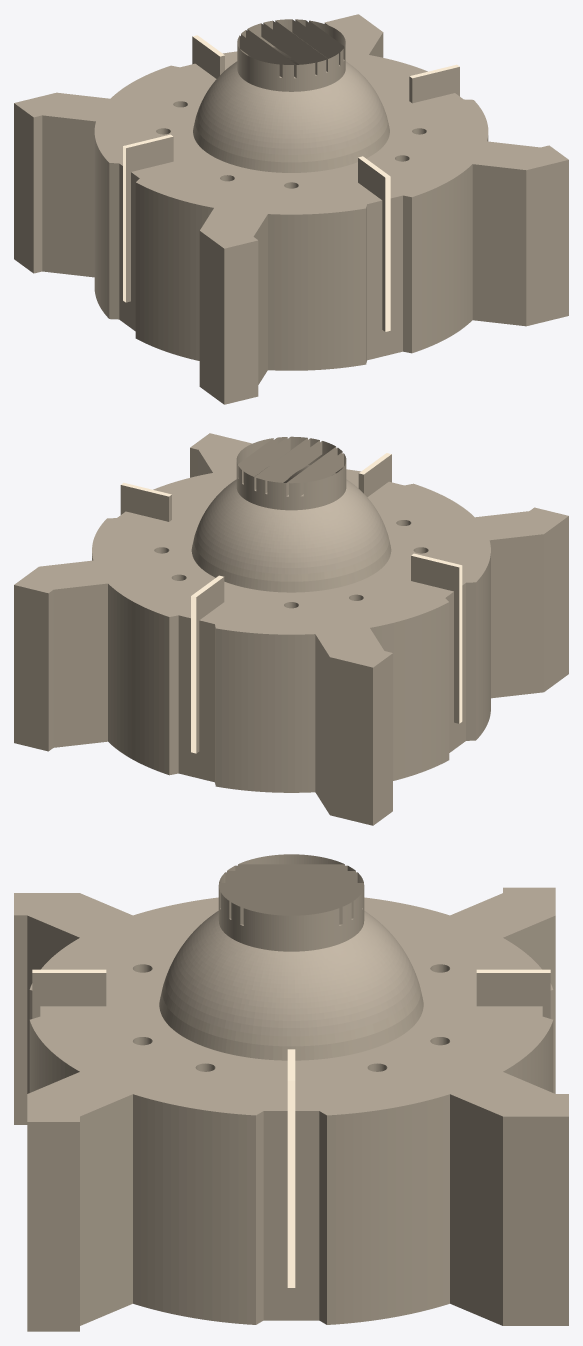
File: rotonde-salle.glb
The picture shows the model from 3 angles, top to bottom: view 1: azimuth 30°, elevation 25°; view 2: azimuth 150°, elevation 25°; view 3: azimuth 270°, elevation 25°; orthographic projection. The views are drawn at different scales.
Visible parts, largest first — view 1: Salle, Fentes; view 2: Salle, Fentes; view 3: Salle, Fentes.
Part boxes in pixels (left/top/right/bottom): Salle: left=14, top=14, right=568, bottom=404; Fentes: left=123, top=35, right=459, bottom=331; Salle: left=14, top=433, right=568, bottom=825; Fentes: left=121, top=453, right=462, bottom=753; Salle: left=14, top=854, right=568, bottom=1331; Fentes: left=32, top=969, right=550, bottom=1287.
Size of the model in its own units: 42 by 27.5 by 42.
